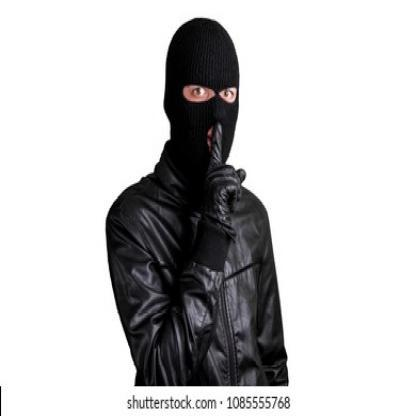criminal: (105, 17, 289, 387)
